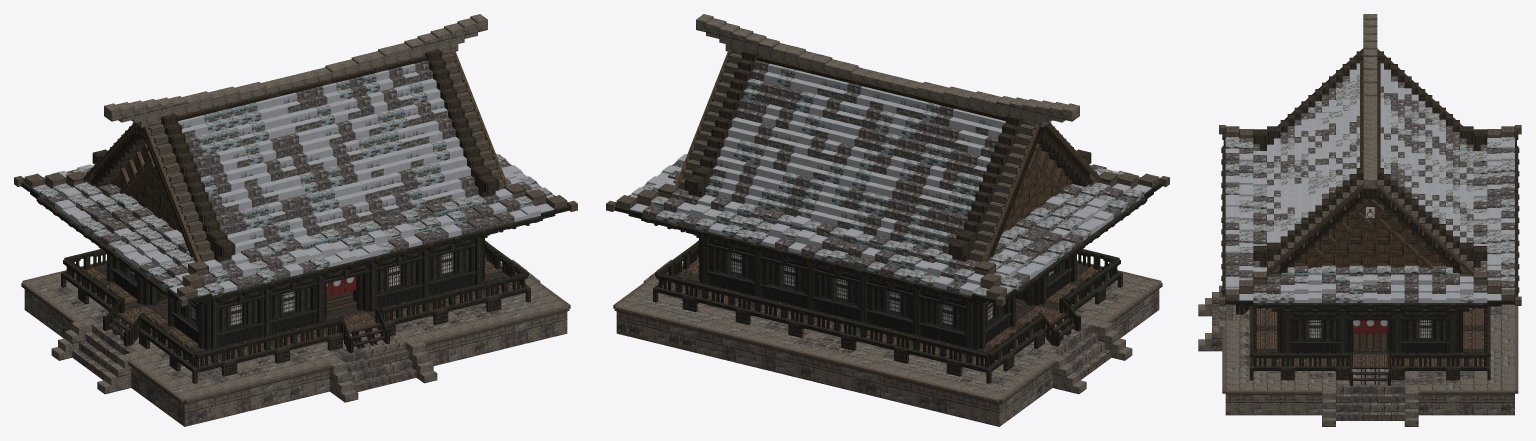
Rendered from dojo_9.glb.
The picture shows the model from 3 angles, left to right: view 1: azimuth 30°, elevation 25°; view 2: azimuth 150°, elevation 25°; view 3: azimuth 270°, elevation 25°; orthographic projection. The views are drawn at different scales.
Visible parts, largest first — view 1: Object_28, Object_8, Object_36, Object_14, Object_12, Object_20, Object_22, Object_72, Object_18, Object_10, Object_60, Object_34 (+18 smaller); view 2: Object_36, Object_28, Object_8, Object_20, Object_22, Object_14, Object_12, Object_26, Object_18, Object_10, Object_60, Object_72 (+16 smaller); view 3: Object_28, Object_36, Object_22, Object_8, Object_14, Object_60, Object_18, Object_10, Object_26, Object_12, Object_84, Object_44 (+18 smaller).
Part boxes in pixels (x1,y1,x2,y2): Object_28: (51,63,554,293); Object_8: (21,177,569,372); Object_36: (47,60,533,289); Object_14: (25,14,566,399); Object_12: (24,16,567,420); Object_20: (32,75,552,296); Object_22: (32,73,551,295); Object_72: (178,65,452,248); Object_18: (38,53,553,367); Object_10: (14,52,577,306); Object_60: (92,49,499,261); Object_34: (53,287,554,426); Object_36: (643,60,1136,292); Object_28: (629,63,1151,295); Object_8: (614,177,1162,372); Object_20: (650,68,1144,296); Object_22: (641,67,1143,295); Object_14: (617,14,1158,399); Object_12: (643,16,1144,426); Object_26: (638,278,1151,417); Object_18: (630,53,1145,367); Object_10: (606,52,1169,306); Object_60: (684,49,1091,261); Object_72: (713,78,992,229); Object_28: (1225,63,1514,302); Object_36: (1225,76,1514,302); Object_22: (1225,75,1514,299); Object_8: (1222,131,1518,385); Object_14: (1198,14,1514,420); Object_60: (1253,51,1487,267); Object_18: (1221,55,1519,371); Object_10: (1219,125,1521,305); Object_26: (1225,314,1514,415); Object_12: (1198,18,1459,426); Object_84: (1294,199,1445,265); Object_44: (1253,308,1483,366).
Size of the model in its own units: 33 by 18.75 by 23.5.
48 materials, 48 textured.
